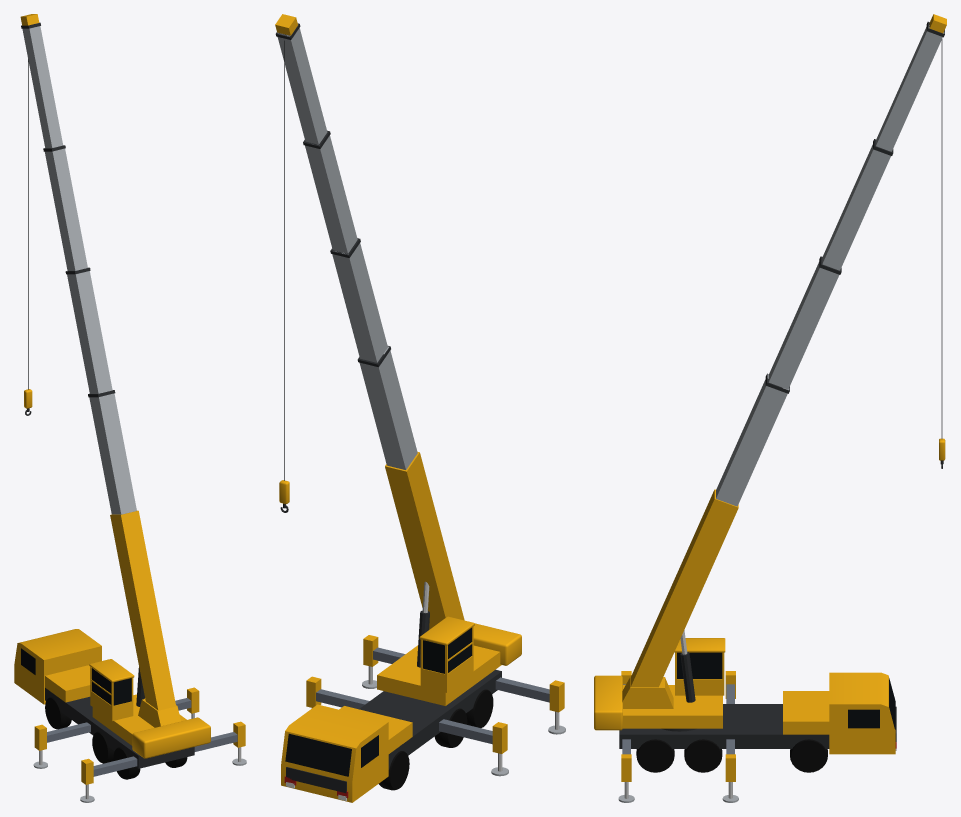
File: plant.lifting.mobile_crane.glb
The picture shows the model from 3 angles, left to right: view 1: azimuth 30°, elevation 25°; view 2: azimuth 150°, elevation 25°; view 3: azimuth 270°, elevation 25°; orthographic projection. The views are drawn at different scales.
Visible parts, largest first — view 1: boom__steel_galvanised, boom__plant_yellow, upper__plant_yellow, carrier__plant_yellow, carrier__steel_dark, outriggers__steel_painted, wheels__rubber, outriggers__plant_yellow, upper__glass_dark, boom__steel_dark; view 2: boom__steel_galvanised, boom__plant_yellow, upper__plant_yellow, carrier__plant_yellow, carrier__steel_dark, outriggers__steel_painted, carrier__glass_dark, wheels__rubber, outriggers__plant_yellow, upper__glass_dark, boom__steel_dark; view 3: boom__steel_galvanised, upper__plant_yellow, carrier__plant_yellow, boom__plant_yellow, carrier__steel_dark, wheels__rubber, upper__glass_dark, boom__steel_dark, outriggers__plant_yellow, carrier__glass_dark, hook__steel_dark.
Part boxes in pixels (x1,y1,x2,y2): boom__steel_galvanised: (22, 23, 136, 514); boom__plant_yellow: (20, 14, 175, 710); upper__plant_yellow: (89, 659, 210, 758); carrier__plant_yellow: (14, 629, 101, 704); carrier__steel_dark: (45, 688, 194, 768); outriggers__steel_painted: (47, 698, 237, 776); wheels__rubber: (45, 697, 187, 779); outriggers__plant_yellow: (34, 687, 245, 784); upper__glass_dark: (91, 668, 131, 705); boom__steel_dark: (21, 22, 144, 706); boom__steel_galvanised: (277, 28, 417, 469); boom__plant_yellow: (275, 14, 464, 629); upper__plant_yellow: (377, 616, 521, 705); carrier__plant_yellow: (281, 704, 412, 802); carrier__steel_dark: (286, 669, 501, 793); outriggers__steel_painted: (316, 647, 549, 744); carrier__glass_dark: (285, 733, 378, 776); wheels__rubber: (379, 689, 493, 790); outriggers__plant_yellow: (306, 635, 564, 753); upper__glass_dark: (423, 628, 471, 673); boom__steel_dark: (275, 23, 429, 667); boom__steel_galvanised: (716, 25, 944, 506); upper__plant_yellow: (594, 638, 725, 730); carrier__plant_yellow: (783, 672, 895, 754); boom__plant_yellow: (630, 14, 946, 687); carrier__steel_dark: (619, 704, 896, 748); wheels__rubber: (636, 739, 827, 772); upper__glass_dark: (677, 652, 722, 678); boom__steel_dark: (680, 21, 944, 702); outriggers__plant_yellow: (621, 671, 735, 781); carrier__glass_dark: (848, 678, 895, 729); hook__steel_dark: (940, 39, 943, 468).
Bounding box in the file's own units: 7.35 × 28.36 × 12.19.
